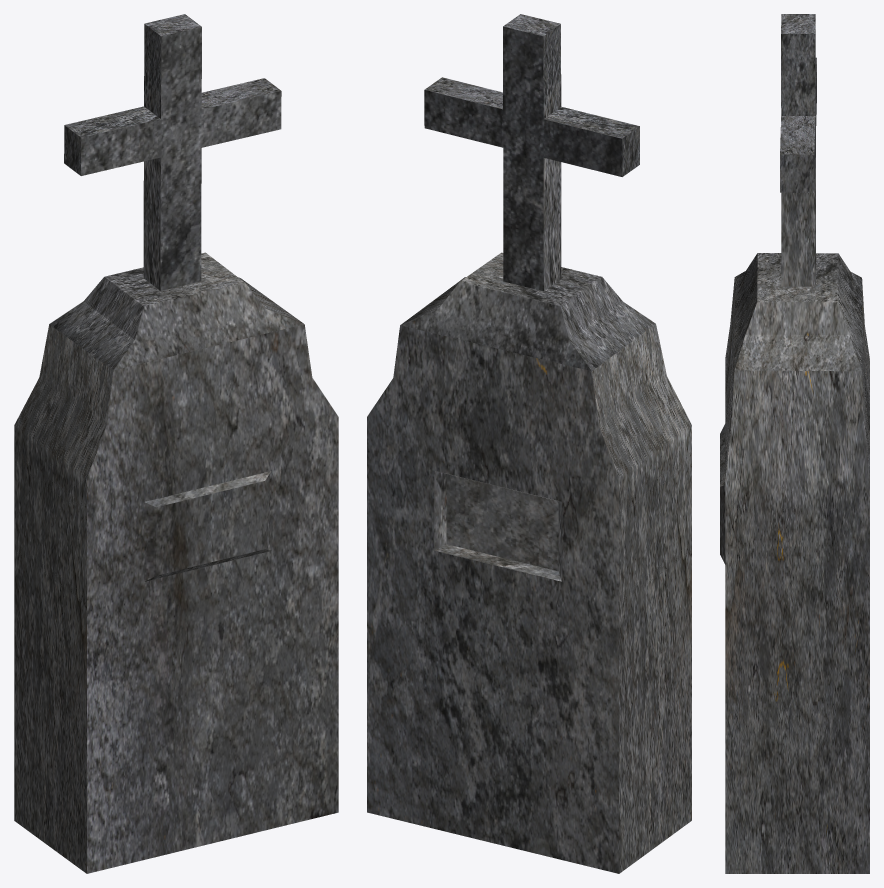
File: headstonecross_1.fbx
3 renders of one model, left to right at view 1: azimuth 30°, elevation 25°; view 2: azimuth 150°, elevation 25°; view 3: azimuth 270°, elevation 25°, orthographic.
Visible parts, largest first — view 1: headstonecross; view 2: headstonecross; view 3: headstonecross.
Part boxes in pixels (x1,y1,x2,y2): headstonecross: (14, 14, 338, 873); headstonecross: (367, 14, 691, 873); headstonecross: (720, 14, 869, 873).
Bounding box in the file's own units: 1 × 3 × 0.5179.
Materials: 2 (2 with a texture image).
